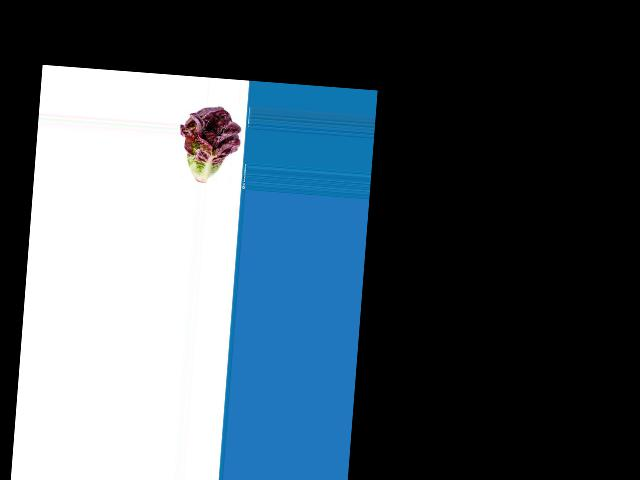lettuce: (178, 105, 243, 186)
